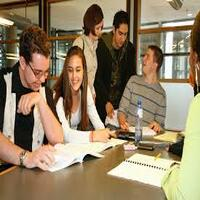person: (14, 15, 60, 102), (55, 35, 94, 109), (76, 4, 110, 59), (102, 6, 134, 56), (142, 40, 168, 90)
